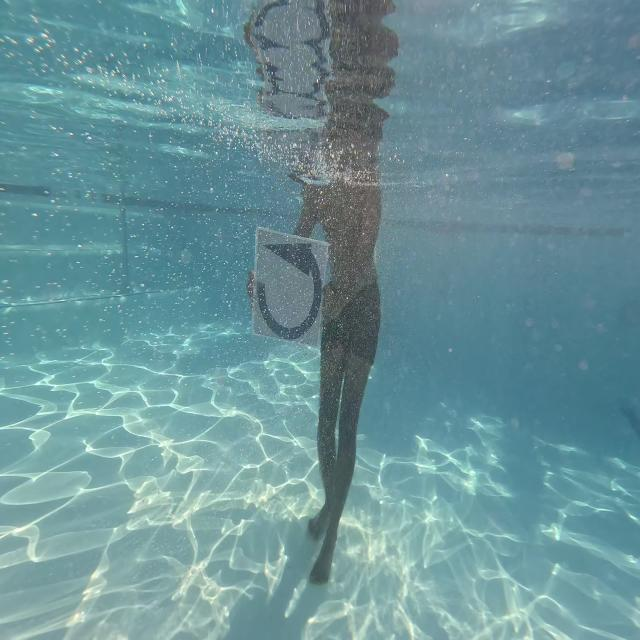blue_side: (252, 221, 328, 341)
